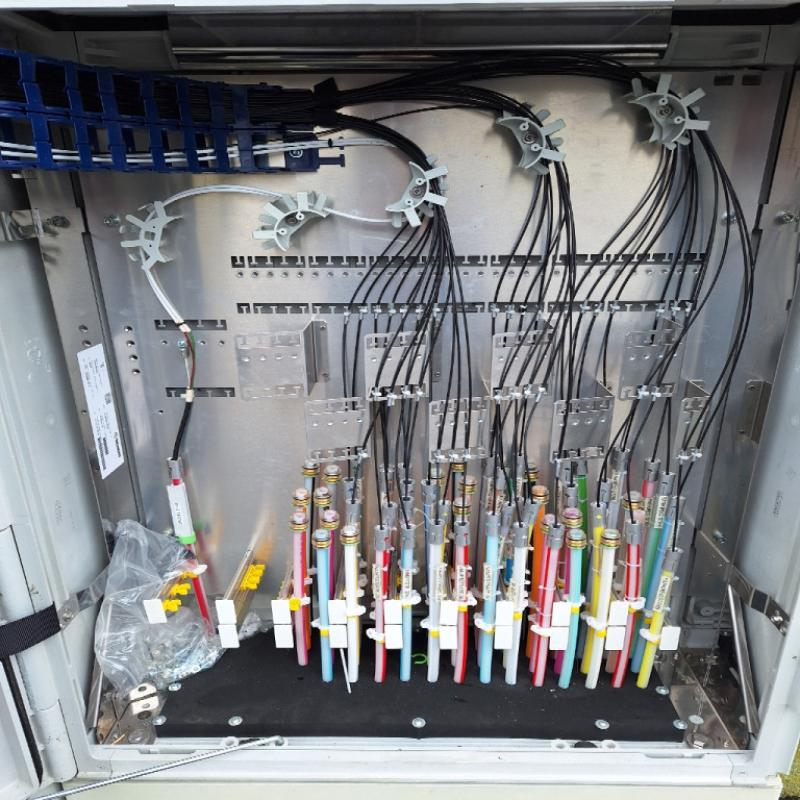NT-Gehause: (4, 3, 800, 791)
